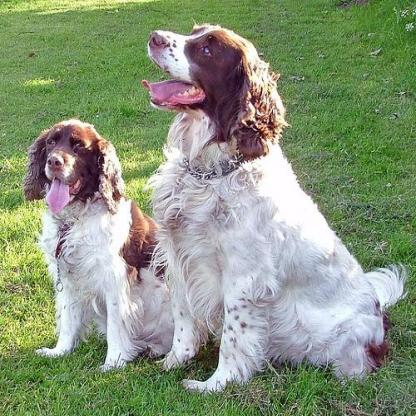English_springer: (139, 13, 411, 396), (21, 116, 161, 370)
